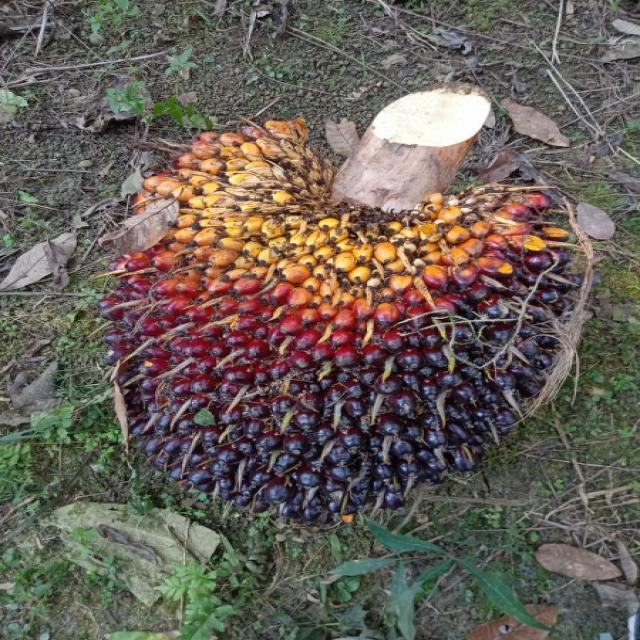fraksi 00: (120, 129, 575, 519)
